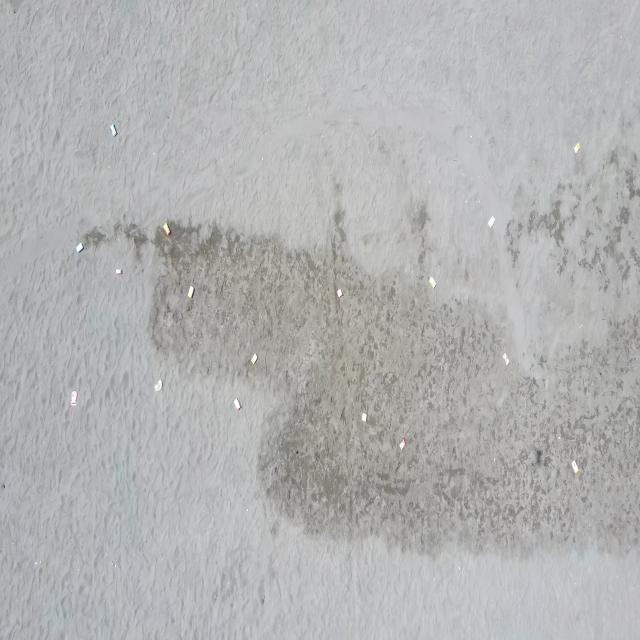Garbage: (535, 448, 542, 464), (161, 221, 169, 235), (232, 397, 240, 409), (572, 460, 579, 473), (75, 241, 83, 252), (427, 276, 435, 287), (249, 352, 256, 364), (70, 391, 76, 404), (110, 123, 116, 136), (397, 437, 404, 448), (154, 379, 160, 391), (187, 287, 193, 298), (487, 216, 493, 227), (360, 412, 366, 422), (336, 288, 342, 296), (503, 352, 507, 364), (575, 143, 580, 152), (115, 267, 120, 273)
